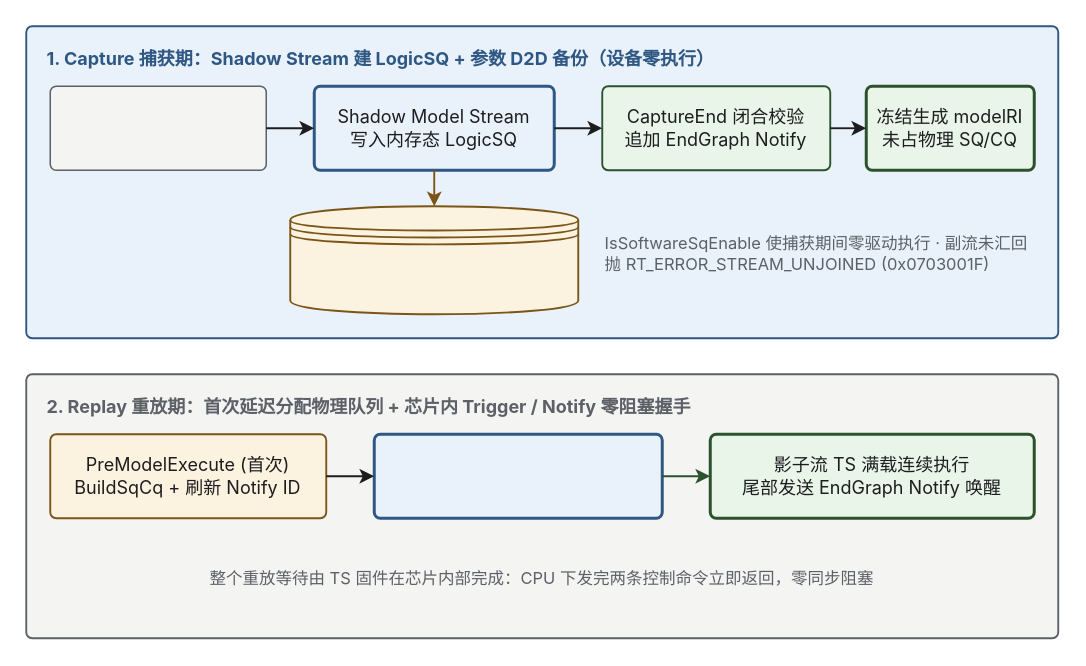
Some shapes in this 1086 by 666 pixel diagram are drawn without their labels. Here are the shapes that lost their labels. From the top down, the box of each, then its label:
(49, 85, 266, 170): Stream 1 用户流 CaptureBegin 拦截
(289, 205, 579, 315): CopyTaskArgsDeviceBuffer D2D 持久备份 comm.args
(372, 432, 663, 519): Stream 1 下发两条控制命令 model exe + notify wait
